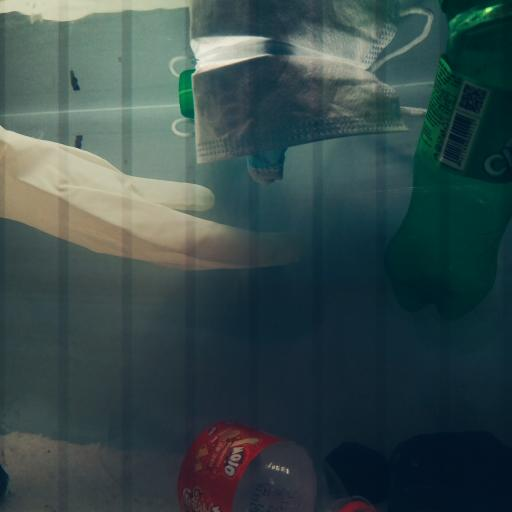bottle_cap: (180, 92, 194, 118)
glove: (0, 127, 307, 270)
mask: (191, 52, 427, 186)
plastic_bottle: (383, 17, 512, 319), (97, 410, 373, 512)
